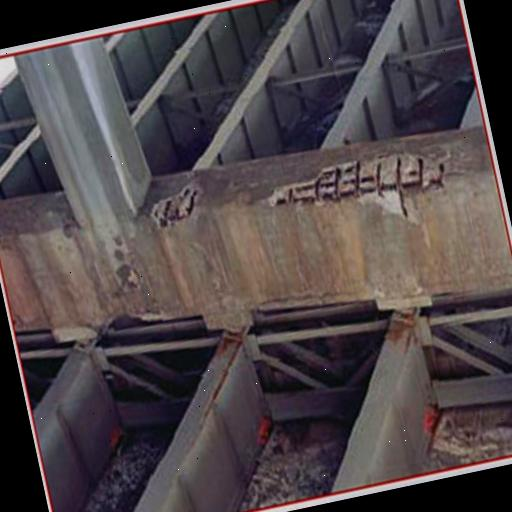spalling: (262, 134, 462, 234), (142, 178, 210, 240)
